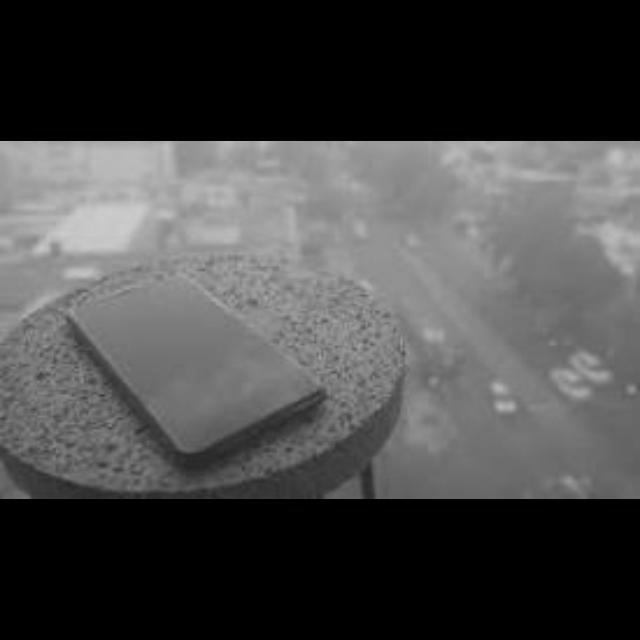fake: (89, 268, 317, 447)
